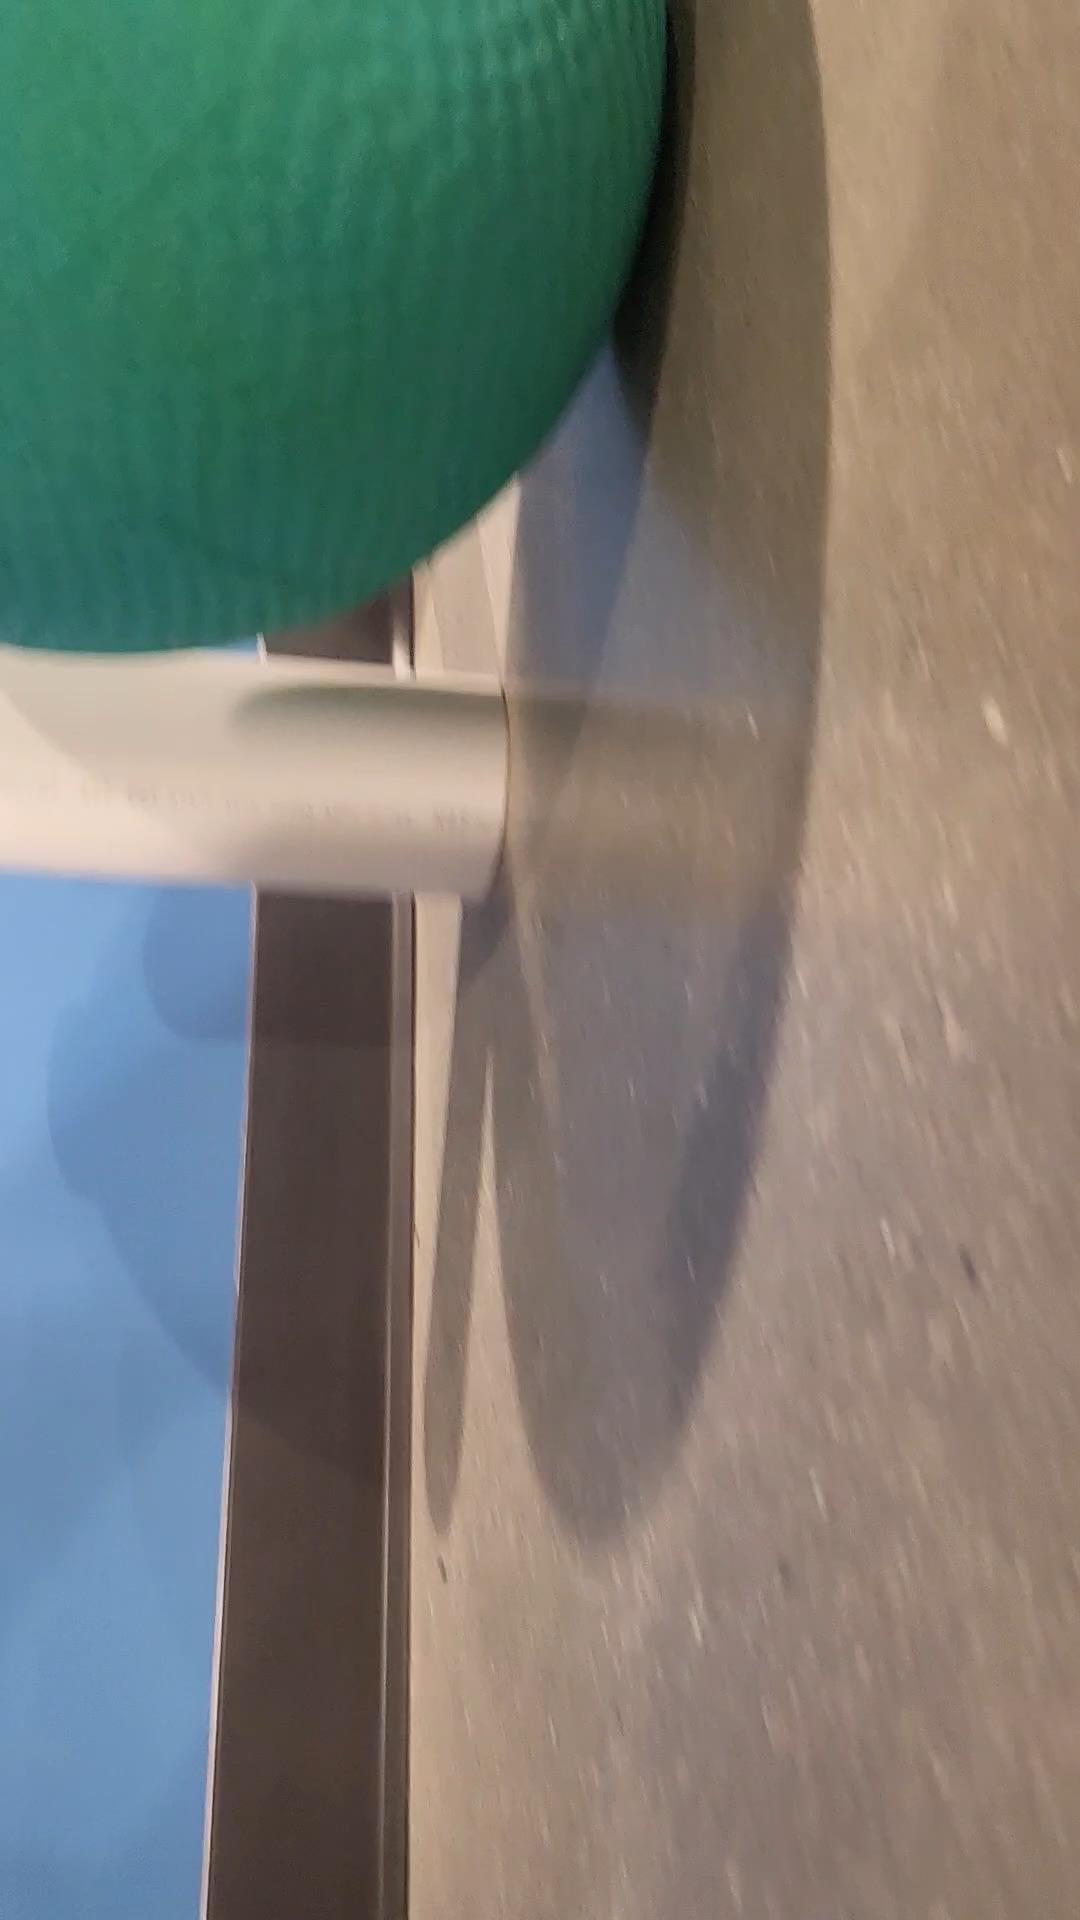algae: (0, 0, 675, 658)
coral: (0, 647, 525, 910)
